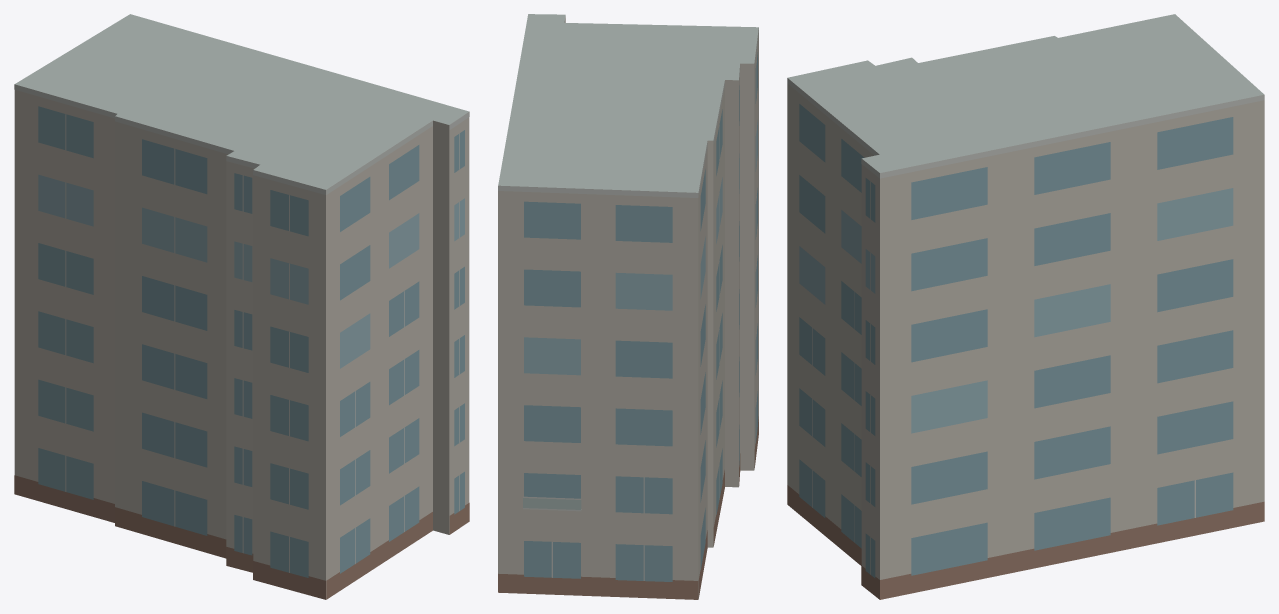
The model's file is survey-upis-32961245.glb.
The picture shows the model from 3 angles, left to right: view 1: azimuth 30°, elevation 25°; view 2: azimuth 150°, elevation 25°; view 3: azimuth 270°, elevation 25°; orthographic projection. The views are drawn at different scales.
Visible parts, largest first — view 1: survey-upis-32961245.tmp; view 2: survey-upis-32961245.tmp; view 3: survey-upis-32961245.tmp.
Boxes of the visible parts, <box> form: survey-upis-32961245.tmp: <box>14,14,469,599</box>; survey-upis-32961245.tmp: <box>498,14,758,599</box>; survey-upis-32961245.tmp: <box>787,14,1264,599</box>.
Bounding box in the file's own units: 15.12 × 18.9 × 19.17.
